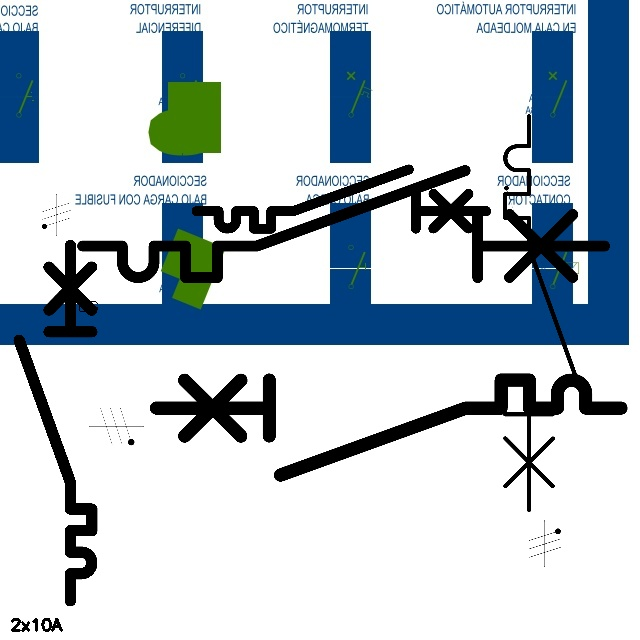interruptor_termomagnetico: (69, 157, 618, 291), (144, 368, 632, 487), (495, 106, 596, 520), (10, 236, 101, 610), (189, 162, 493, 236)
